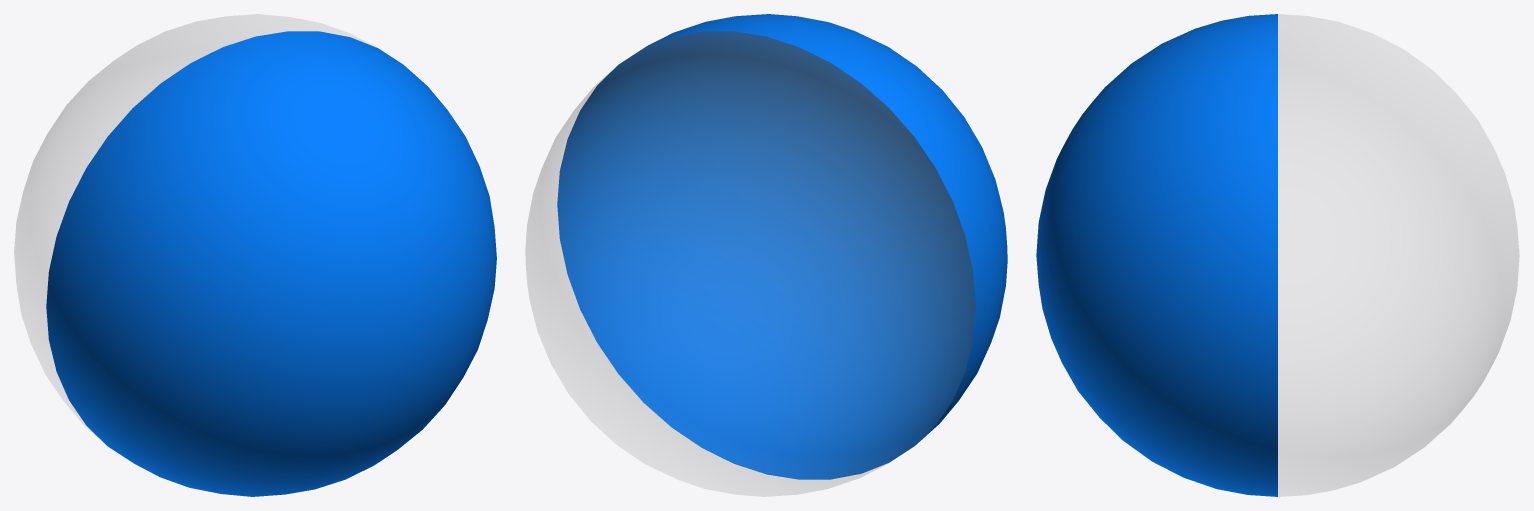
Rendered from ball-blue.glb.
3 renders of one model, left to right at view 1: azimuth 30°, elevation 25°; view 2: azimuth 150°, elevation 25°; view 3: azimuth 270°, elevation 25°, orthographic.
Parts seen in each view (by area): view 1: ball.001; view 2: ball.001; view 3: ball.001.
Boxes of the visible parts, x1,y1,x2,y2 form: ball.001: [14, 14, 496, 496]; ball.001: [525, 14, 1007, 496]; ball.001: [1036, 14, 1519, 496].
Bounding box in the file's own units: 0.3 × 0.3 × 0.3.
